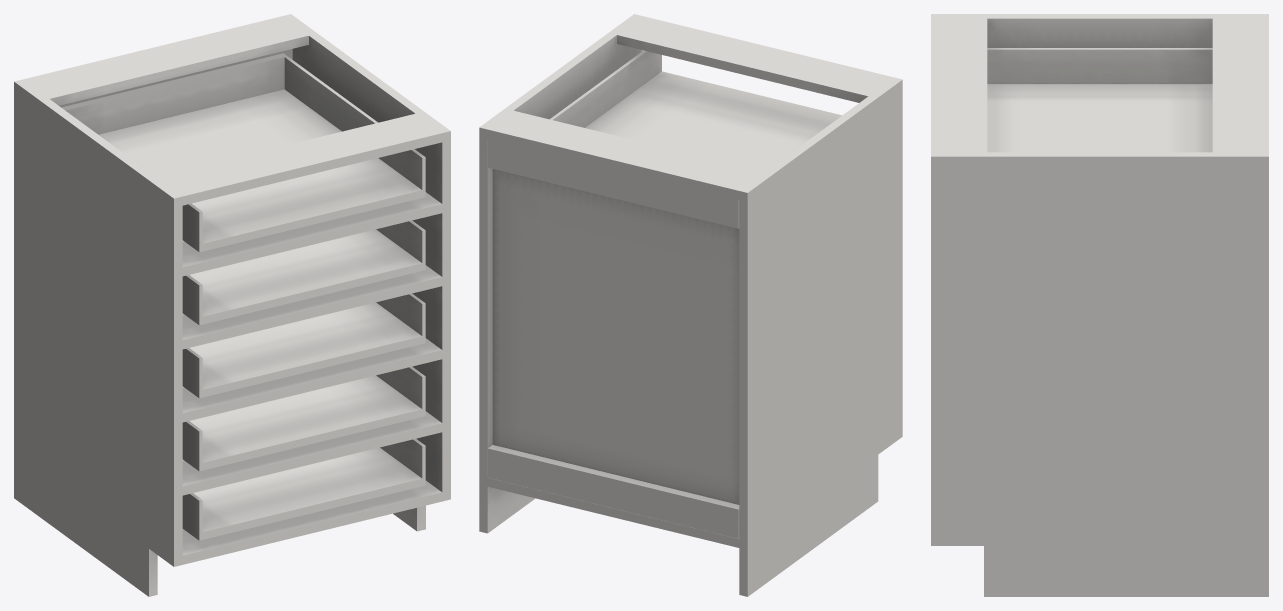
Rendered from 5-drawer-equal-base-doors-off.glb.
The picture shows the model from 3 angles, left to right: view 1: azimuth 30°, elevation 25°; view 2: azimuth 150°, elevation 25°; view 3: azimuth 270°, elevation 25°; orthographic projection. The views are drawn at different scales.
Parts seen in each view (by area): view 1: part_0, part_17; view 2: part_0, part_17; view 3: part_0, part_17.
Boxes of the visible parts, x1,y1,x2,y2 form: part_0: (14, 14, 450, 596); part_17: (61, 53, 425, 540); part_0: (479, 14, 902, 596); part_17: (549, 50, 841, 171); part_0: (931, 14, 1268, 596); part_17: (987, 48, 1212, 152).
Size of the model in its own units: 0.6096 by 0.8763 by 0.6096.
2 materials, 1 textured.
